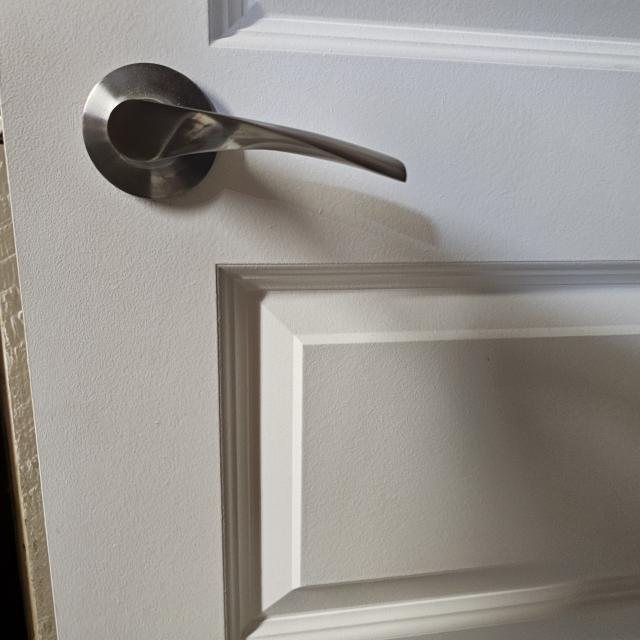door-handle: (82, 62, 406, 199)
